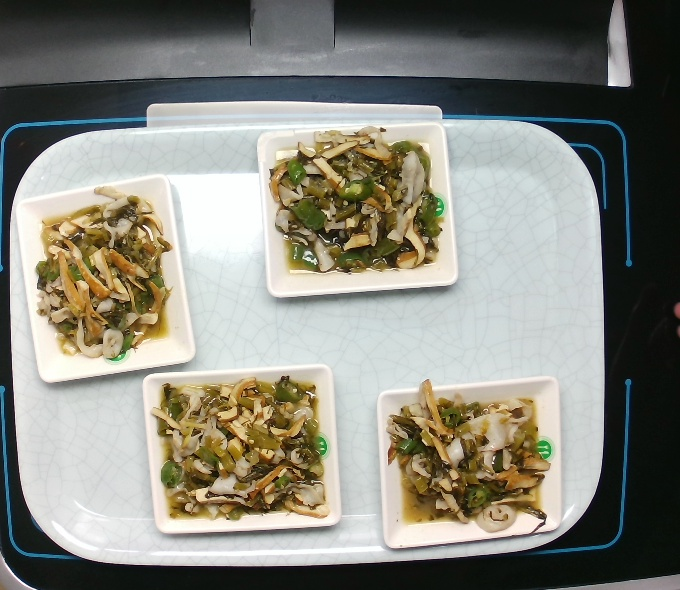wcq-YouYuXueCaiDouGan: (264, 120, 451, 283), (144, 367, 333, 528), (383, 374, 556, 539), (30, 181, 181, 366)
